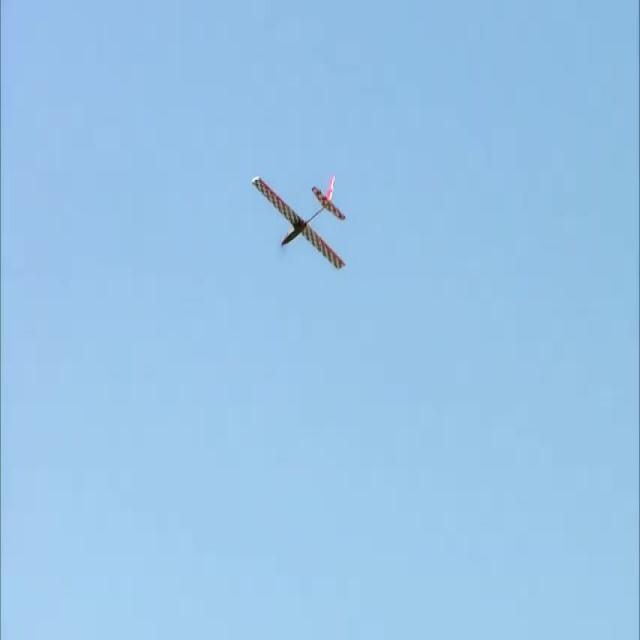iha: (282, 205, 314, 240)
